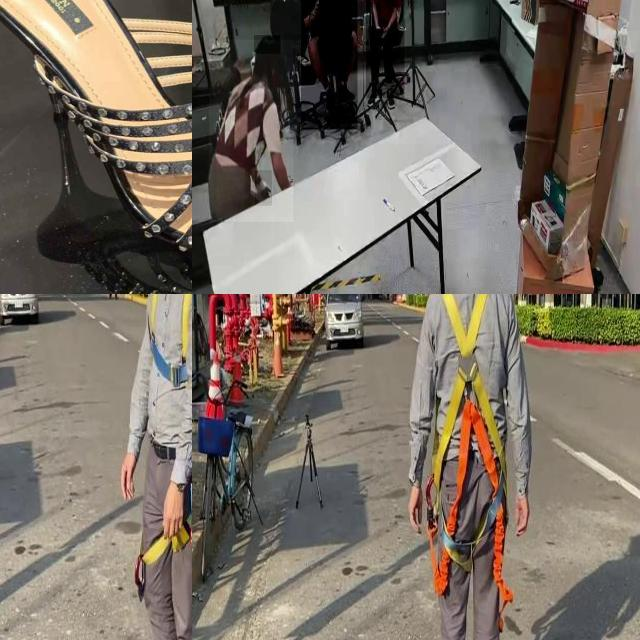Harness: (427, 294, 513, 608), (135, 480, 192, 600), (150, 294, 192, 388)
Sandals: (0, 0, 192, 271)
hand_glove: (255, 170, 273, 207)
hand_noglove: (374, 22, 382, 38), (380, 24, 389, 38)
head_nohelmet: (254, 35, 280, 54)
person: (209, 39, 294, 222), (301, 0, 358, 130), (366, 0, 405, 99)
